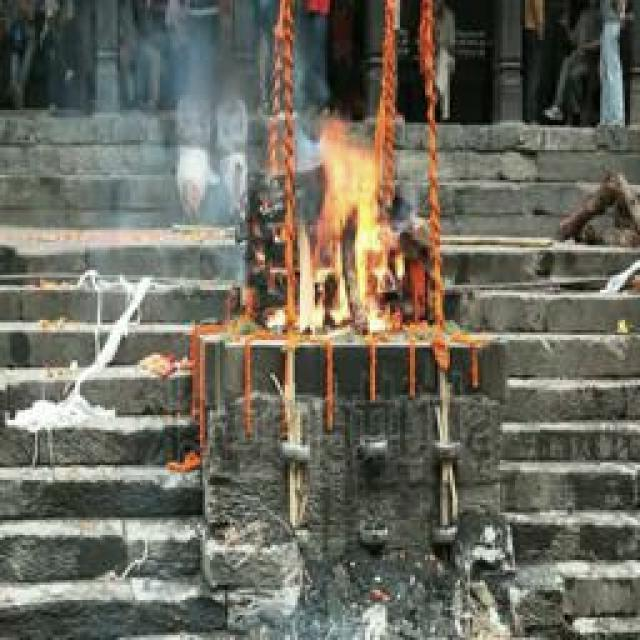Fire: (289, 126, 401, 339)
